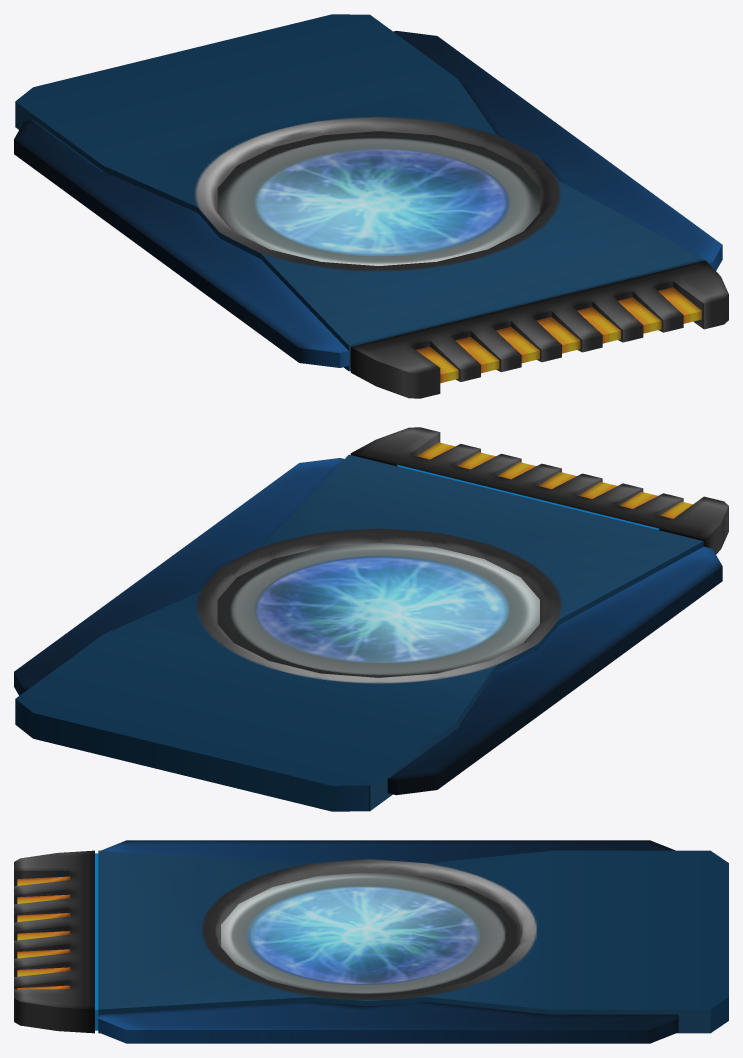
Rendered from EMPChip.FBX.
3 renders of one model, top to bottom at view 1: azimuth 30°, elevation 25°; view 2: azimuth 150°, elevation 25°; view 3: azimuth 270°, elevation 25°, orthographic. The views are drawn at different scales.
Parts seen in each view (by area): view 1: EMPChip; view 2: EMPChip; view 3: EMPChip.
Boxes of the visible parts, left/top/right/bottom form: EMPChip: left=14, top=14, right=728, bottom=398; EMPChip: left=14, top=427, right=728, bottom=811; EMPChip: left=14, top=840, right=728, bottom=1043.
Bounding box in the file's own units: 116 × 7.29 × 185.
1 material, 1 textured.
